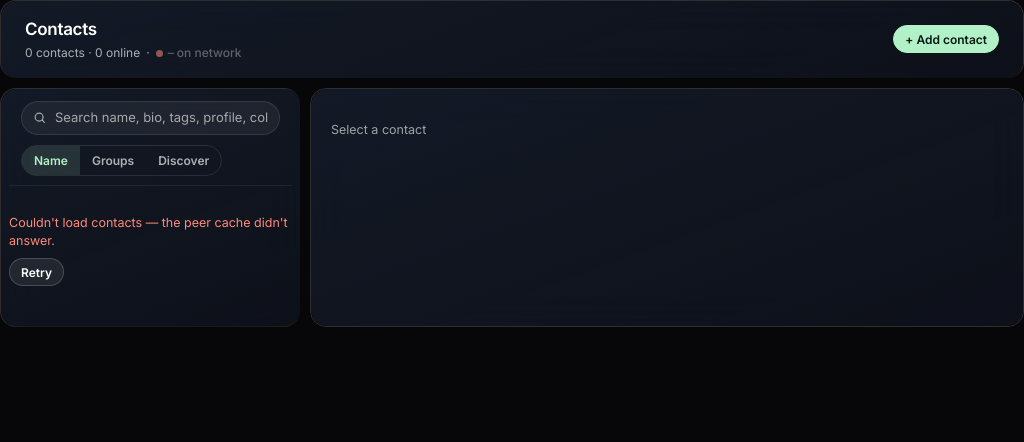
QURATOR-93 — Contacts load failure is not a confident empty › Retry re-fetches: reject → resolve → the list renders and the error is gone
The image size is (1024, 442).
Click the button "Retry" at (36, 272), box [9,258,64,286]
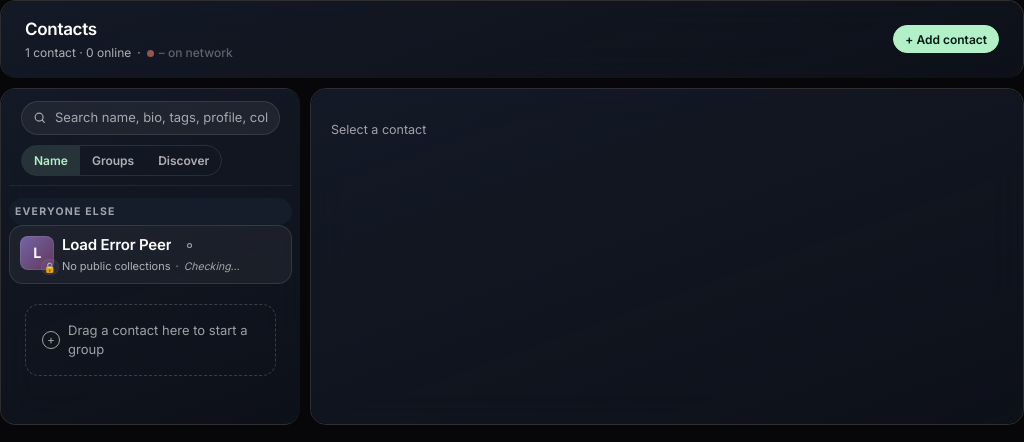
Expected: the text "Load Error Peer" is shown, [62,234,172,256]
Expected: the message "Couldn't load contacts — the peer cache didn't answer. Retry" is gone
